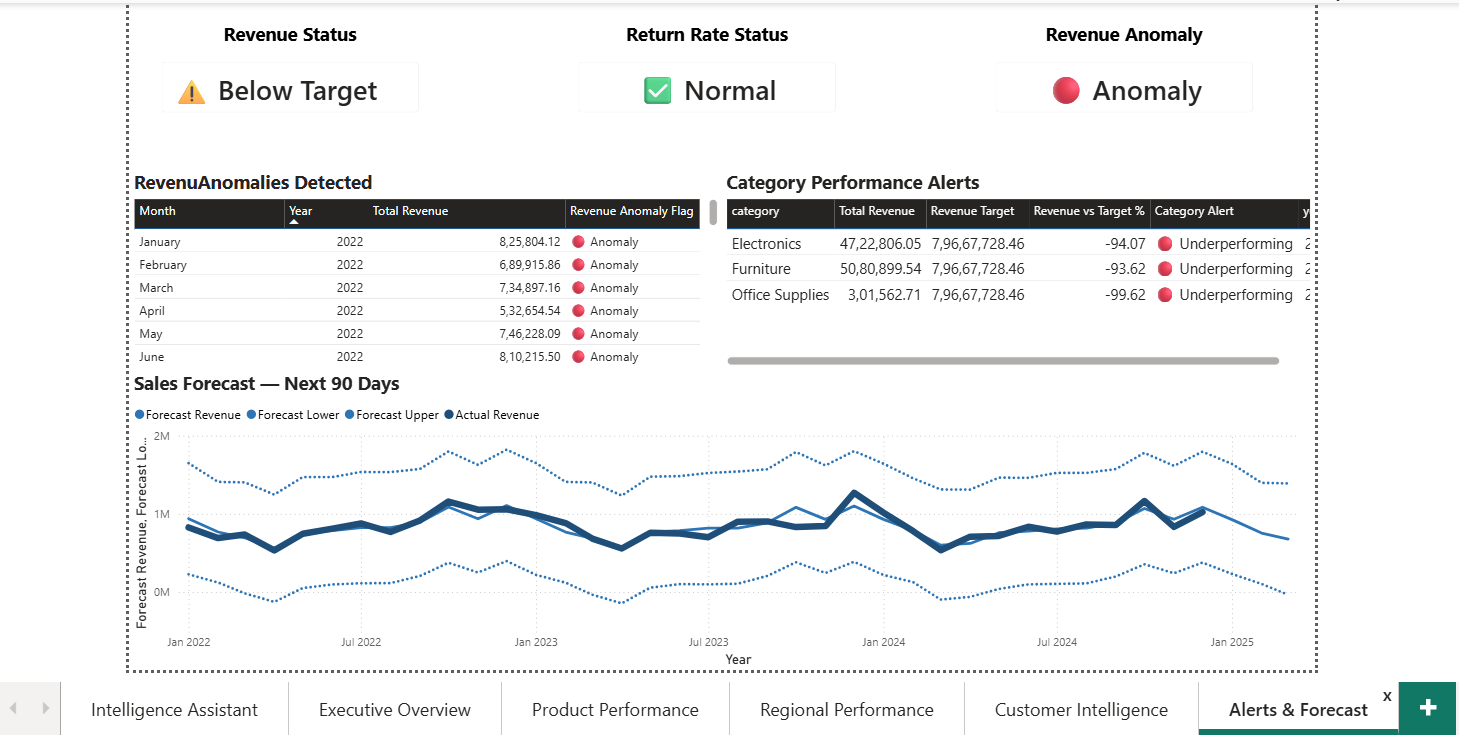

This screenshot's page, from the dashboard's own definition file:
{"tool":"powerbi","page":{"name":"Alerts & Forecast","canvas":[1280,720],"ordinal":5},"visuals":[{"type":"cardVisual","title":"Revenue Status","fields":{"Data":["Dim_Budget_Targets.Alerts_Revenue_Status"]},"box":[18,20,312,116],"z":0},{"type":"cardVisual","title":"Return Rate Status","fields":{"Data":["Fact_Sales.Return Rate Status"]},"box":[468,20,312,116],"z":1000},{"type":"tableEx","title":"RevenuAnomalies Detected","fields":{"Values":["Dim_Date.month_name","Dim_Date.year","Fact_Sales.Total Revenue","Fact_Sales.Revenue Anomaly Flag"]},"box":[0,180,640,216],"z":2000},{"type":"cardVisual","title":"Revenue Anomaly","fields":{"Data":["Fact_Sales.Revenue Anomaly Flag"]},"box":[918,20,312,116],"z":3000},{"type":"tableEx","title":"Category Performance Alerts","fields":{"Values":["Dim_Product.category","Fact_Sales.Total Revenue","Dim_Budget_Targets.Revenue Target","Dim_Budget_Targets.Revenue vs Target %","Fact_Sales.Category Alert","Dim_Date.year"]},"box":[640,180,640,216],"z":4000},{"type":"lineChart","title":"Sales Forecast — Next 90 Days","fields":{"Y":["Sum(forecast.yhat)","Sum(forecast.yhat_lower)","Sum(forecast.yhat_upper)","Sum(Fact_Sales.revenue)"],"Category":["forecast.ds.Variation.Date Hierarchy.Year","forecast.ds.Variation.Date Hierarchy.Quarter","forecast.ds.Variation.Date Hierarchy.Month","forecast.ds.Variation.Date Hierarchy.Day"]},"box":[0,396,1280,324],"z":5000}]}

Visuals, with their boxes on the page's 1280x720 design canvas (x1, y1, x2, y2). These are canvas units, not pixel positions in the 1459x735 screenshot, which may show the page scaled, cropped or inside an application window:
"Revenue Status" cardVisual: <region>18, 20, 330, 136</region>
"Return Rate Status" cardVisual: <region>468, 20, 780, 136</region>
"RevenuAnomalies Detected" tableEx: <region>0, 180, 640, 396</region>
"Revenue Anomaly" cardVisual: <region>918, 20, 1230, 136</region>
"Category Performance Alerts" tableEx: <region>640, 180, 1280, 396</region>
"Sales Forecast — Next 90 Days" lineChart: <region>0, 396, 1280, 720</region>
